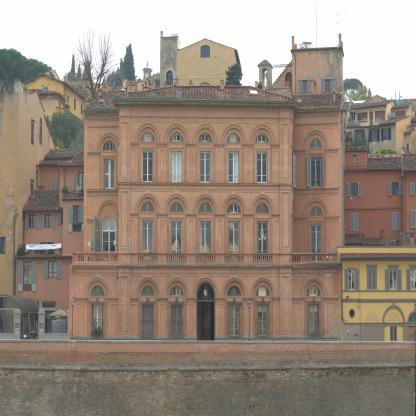Balcony: (291, 252, 338, 268), (71, 252, 119, 266)
Building Outline: (69, 33, 345, 346)
Door: (197, 301, 215, 346), (228, 221, 240, 263), (102, 230, 116, 264), (257, 221, 268, 263), (142, 221, 153, 263), (200, 221, 211, 263), (171, 221, 182, 263), (311, 224, 322, 263)
Facade: (69, 33, 345, 346)
Floor Slab: (70, 269, 342, 274), (84, 191, 341, 195), (293, 103, 340, 107)
Ground Floor: (70, 108, 342, 196), (70, 195, 342, 274), (70, 274, 342, 346)
Molding: (114, 101, 342, 112)
Pillar: (278, 109, 294, 341), (117, 107, 132, 340)
Roof: (113, 85, 296, 101), (83, 89, 143, 110), (292, 93, 342, 107)
Top Floor: (292, 47, 343, 107)
Window: (137, 197, 158, 263), (195, 197, 216, 263), (166, 197, 187, 263), (252, 197, 273, 263), (224, 197, 244, 263), (306, 201, 326, 265), (87, 281, 108, 337), (224, 281, 245, 337), (137, 281, 158, 337), (166, 281, 187, 337), (195, 127, 216, 183), (223, 128, 244, 183), (166, 127, 187, 182), (304, 280, 324, 337), (305, 133, 326, 187), (99, 203, 118, 262), (253, 281, 273, 337), (252, 128, 272, 183), (138, 127, 158, 182), (99, 136, 118, 189), (228, 304, 240, 337), (257, 304, 269, 337), (199, 151, 211, 183), (92, 304, 103, 337), (142, 304, 153, 337), (171, 304, 182, 337), (142, 150, 153, 182), (228, 151, 239, 183), (308, 304, 319, 336), (171, 151, 182, 182), (257, 152, 268, 183), (310, 156, 321, 187), (197, 283, 215, 301), (104, 159, 114, 189), (102, 216, 116, 230), (198, 132, 212, 143), (309, 138, 323, 149), (91, 285, 105, 296), (227, 202, 241, 213), (198, 202, 212, 213), (309, 206, 323, 217), (307, 285, 321, 296), (256, 285, 270, 296), (227, 286, 241, 297), (141, 286, 155, 297), (141, 202, 154, 213), (170, 132, 183, 143), (170, 202, 183, 213), (170, 286, 183, 297), (141, 132, 155, 142), (255, 133, 269, 143), (255, 203, 269, 213), (103, 141, 116, 151), (227, 133, 240, 143), (302, 81, 308, 92), (325, 80, 331, 91)
